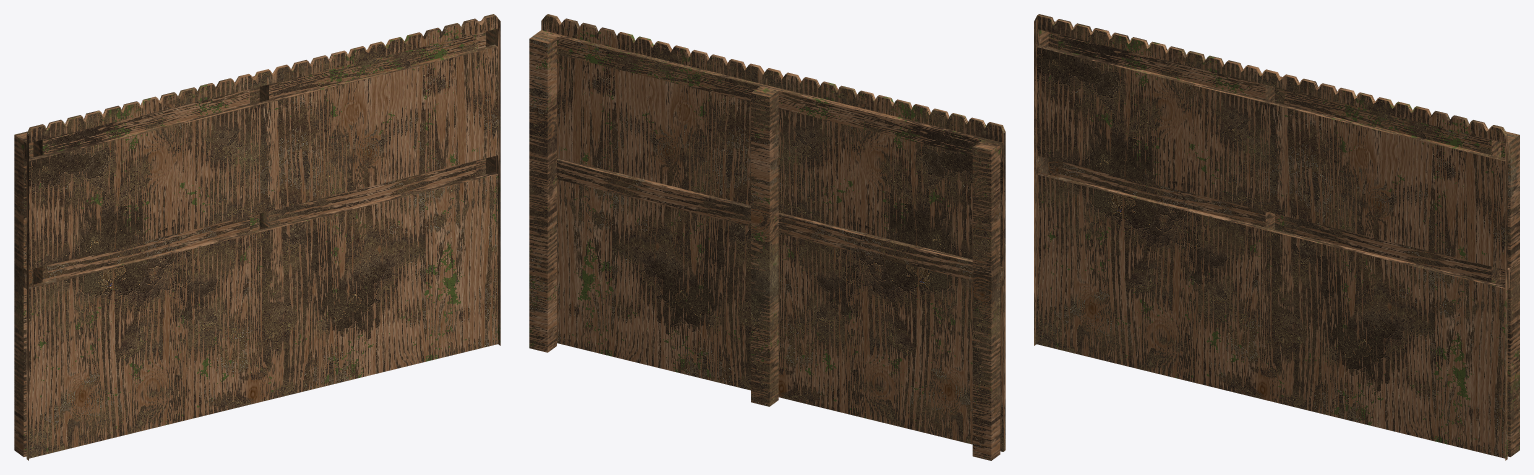
File: m_fenceLong.fbx
3 views of the same model, side by side, from view 1: azimuth 30°, elevation 25°; view 2: azimuth 150°, elevation 25°; view 3: azimuth 330°, elevation 25° (orthographic). The views are drawn at different scales.
Parts seen in each view (by area): view 1: m_longFence41; view 2: m_longFence41; view 3: m_longFence41.
Boxes of the visible parts, x1,y1,x2,y2 form: m_longFence41: (14,14,500,460); m_longFence41: (529,14,1005,460); m_longFence41: (1034,14,1519,460).
Size of the model in its own units: 1016 by 682 by 54.81.
